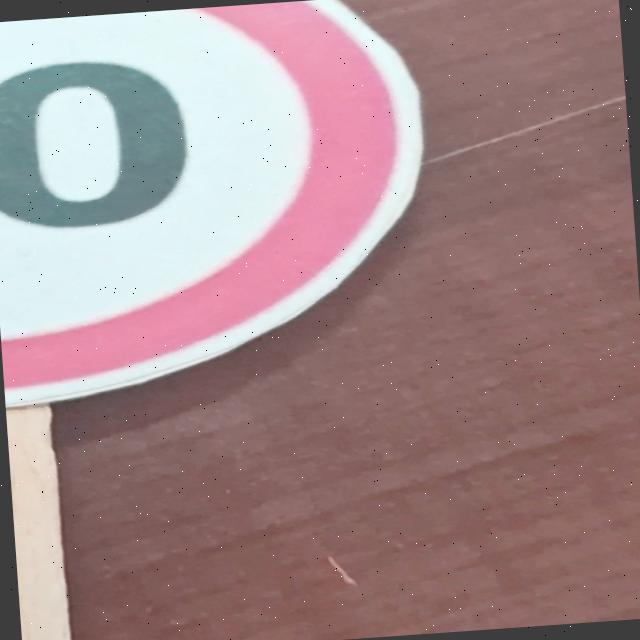Speed60: (0, 0, 452, 418)
